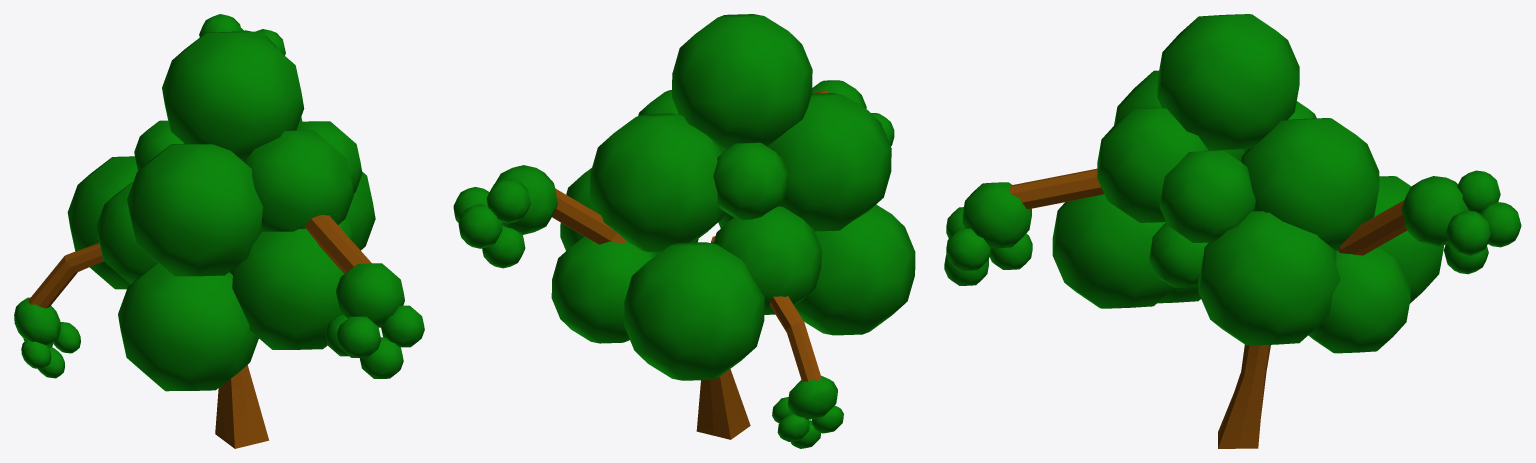
File: Bush.fbx
The picture shows the model from 3 angles, left to right: view 1: azimuth 30°, elevation 25°; view 2: azimuth 150°, elevation 25°; view 3: azimuth 270°, elevation 25°; orthographic projection.
Parts seen in each view (by area): view 1: polySurface69; view 2: polySurface69; view 3: polySurface69.
Boxes of the visible parts, <box> form: polySurface69: <box>14,14,424,448</box>; polySurface69: <box>453,14,915,448</box>; polySurface69: <box>944,14,1521,448</box>.
Bounding box in the file's own units: 4.98 × 6.06 × 7.59.
